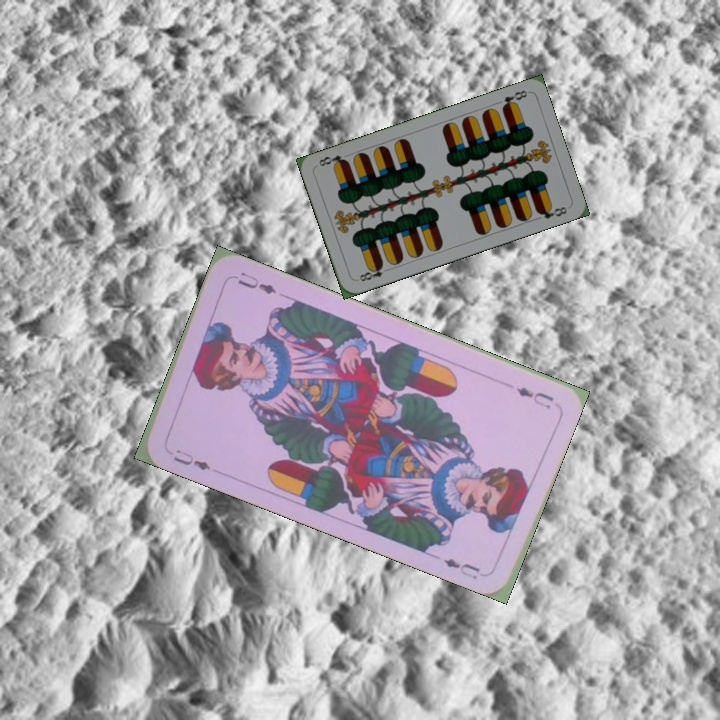E8: (353, 260, 392, 284), (498, 86, 530, 112)
EU: (169, 445, 214, 473), (512, 383, 557, 411)
